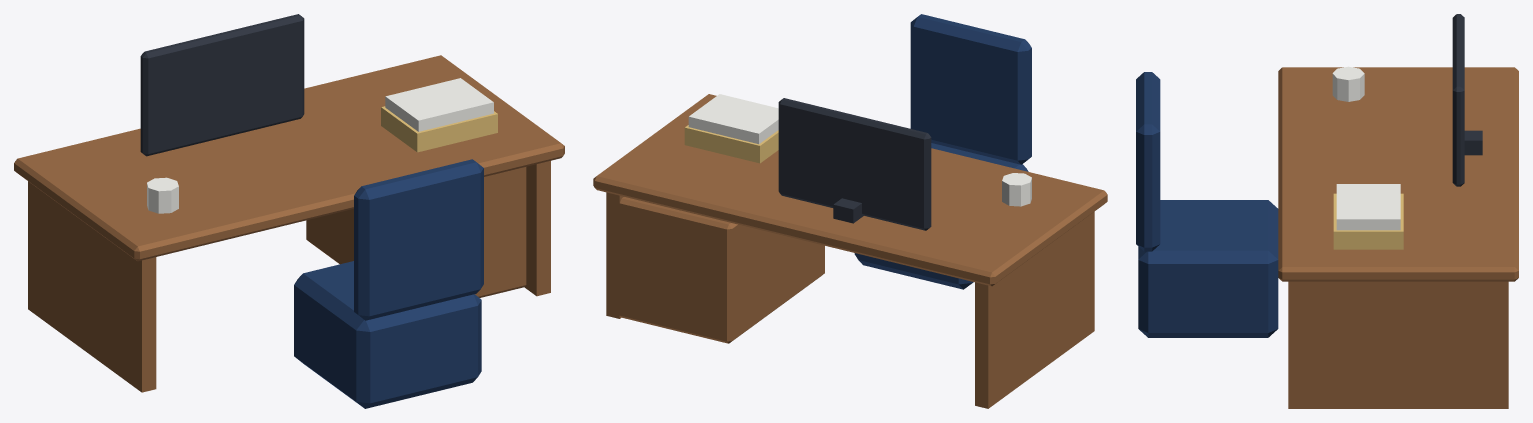
Rendered from desk.fbx.
3 renders of one model, left to right at view 1: azimuth 30°, elevation 25°; view 2: azimuth 150°, elevation 25°; view 3: azimuth 270°, elevation 25°, orthographic. The views are drawn at different scales.
Visible parts, largest first — view 1: desk; view 2: desk; view 3: desk.
Part boxes in pixels (x1,y1,x2,y2): desk: (14, 14, 564, 408); desk: (593, 14, 1107, 408); desk: (1136, 14, 1518, 408).
Size of the model in its own units: 2.4 by 1.35 by 1.91.
